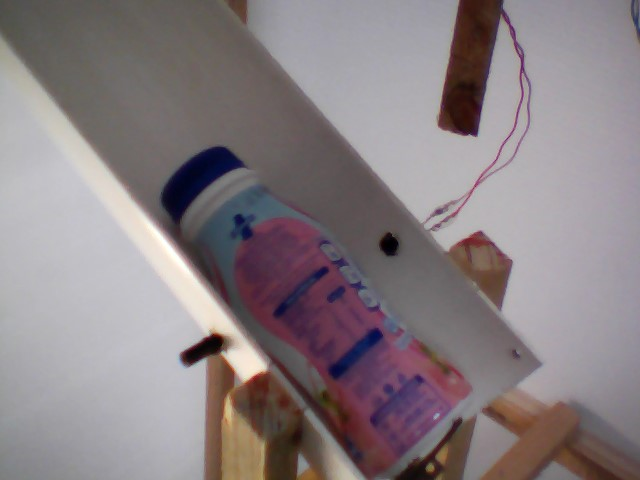plastico: (156, 140, 484, 478)
